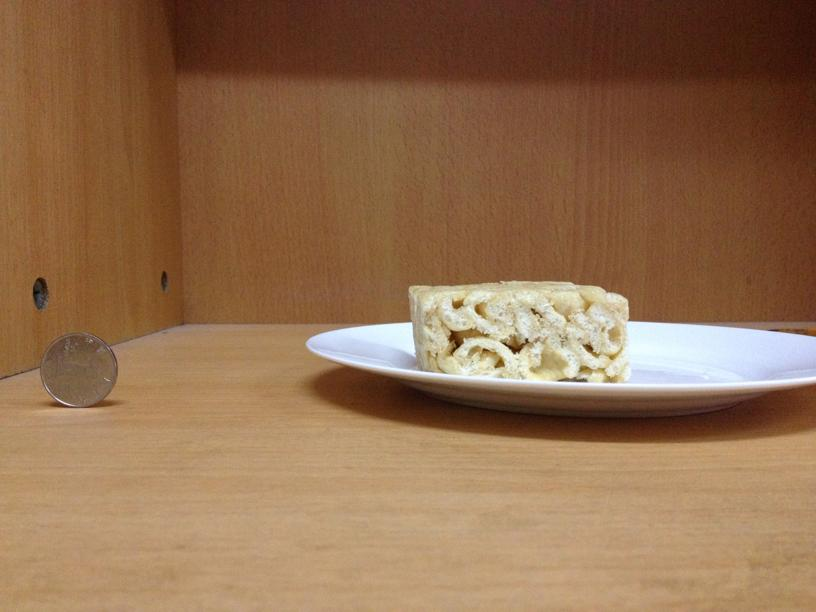coin: (39, 331, 117, 407)
sachima: (404, 276, 628, 380)
